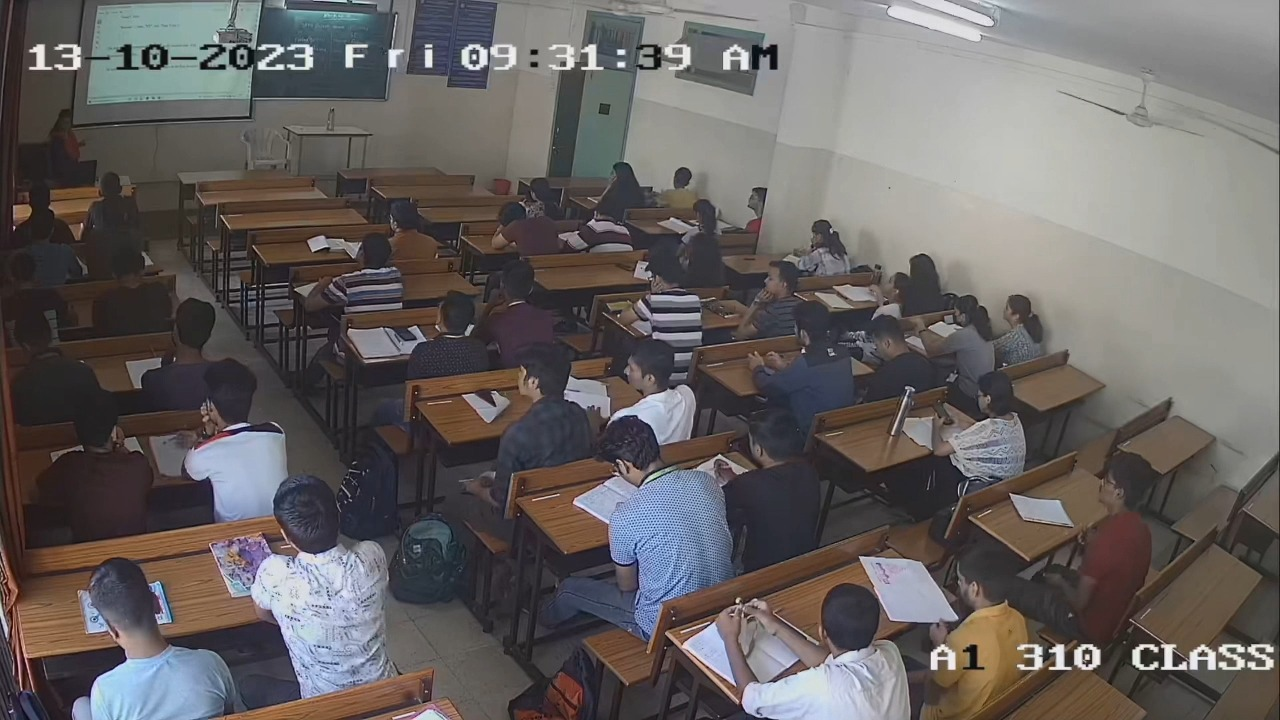cell-phones: (475, 388, 504, 408), (932, 401, 954, 426), (603, 298, 638, 313), (392, 325, 417, 341), (615, 262, 636, 273), (943, 313, 958, 325)
person: (497, 340, 594, 467), (949, 370, 1028, 473), (406, 289, 491, 376), (630, 260, 702, 344), (947, 295, 997, 371), (682, 234, 728, 289)
